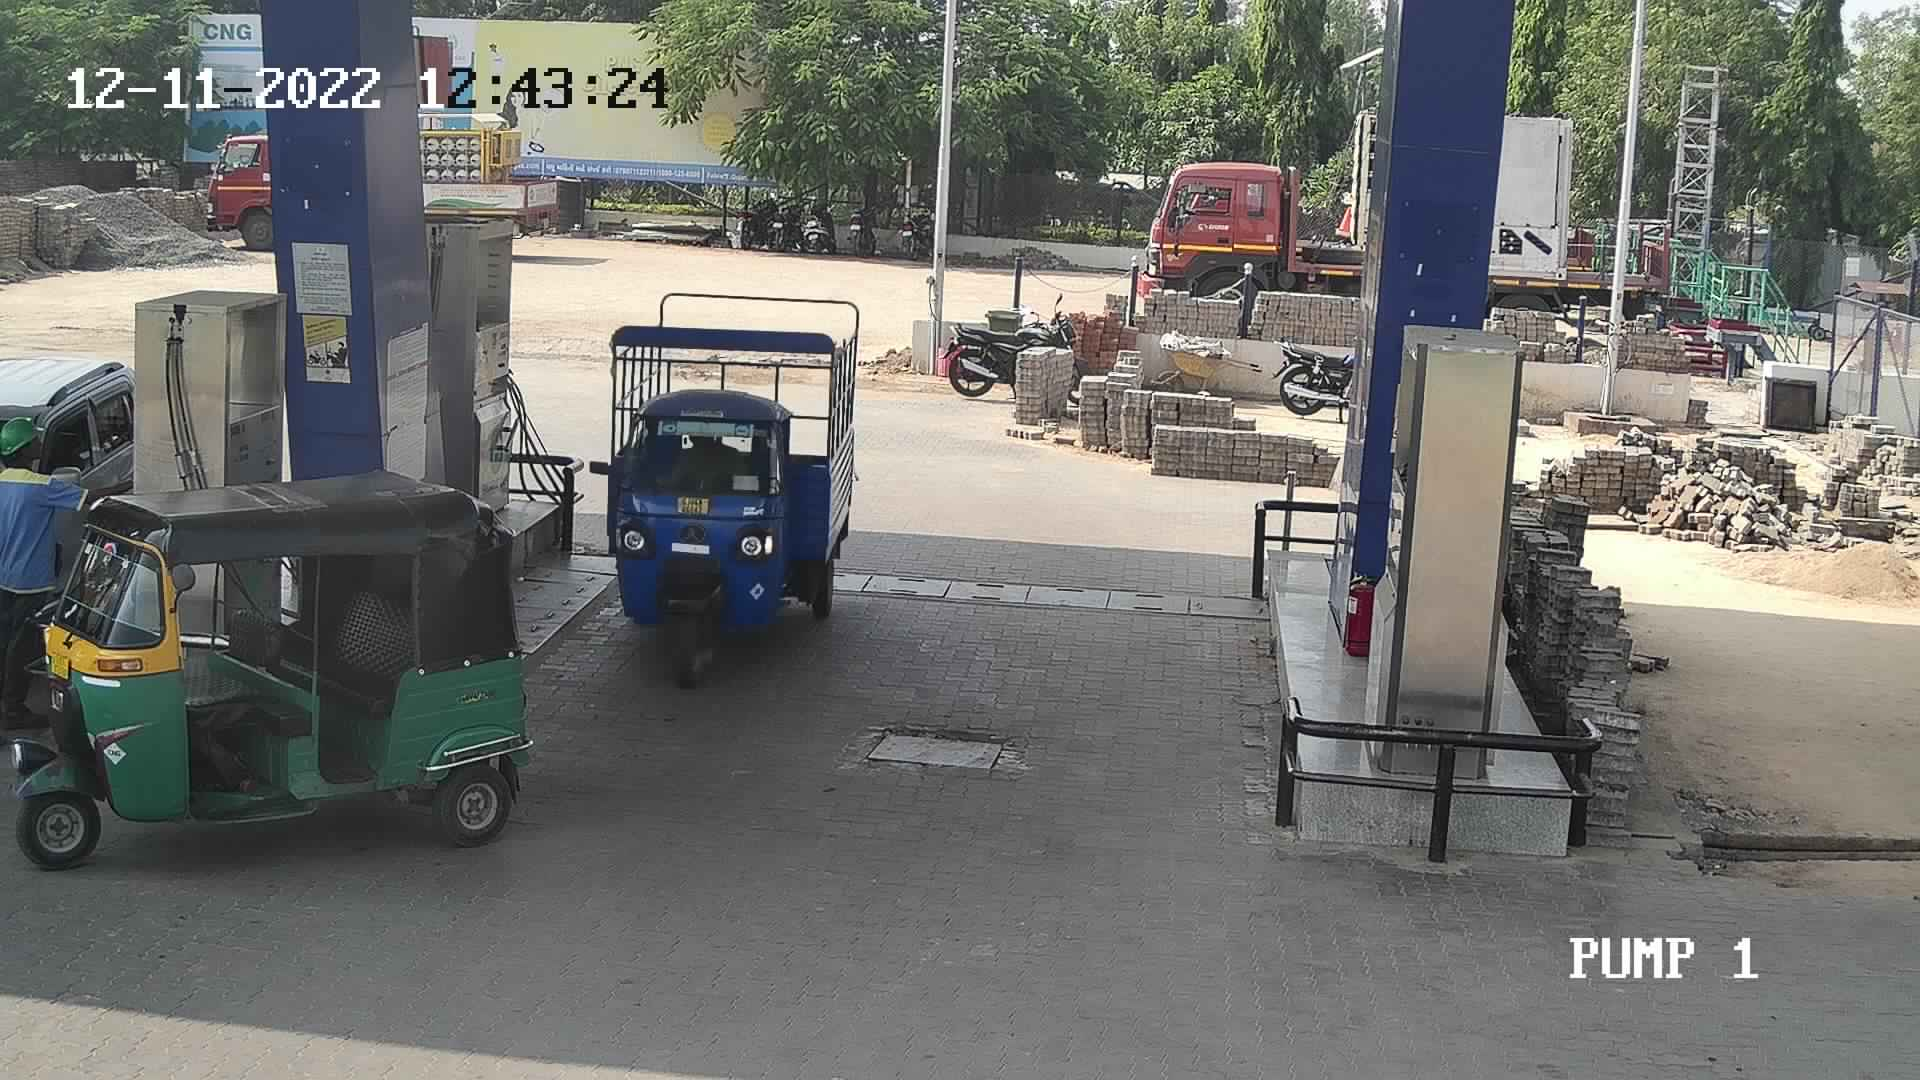Auto: (20, 443, 533, 868), (585, 284, 864, 698)
Bike: (936, 301, 1087, 406), (1265, 320, 1369, 427), (886, 175, 938, 260), (793, 185, 847, 262), (735, 179, 782, 248), (843, 186, 885, 258), (767, 185, 806, 252)
Car: (0, 330, 173, 625)
HMV: (1124, 86, 1387, 347), (409, 84, 572, 241)
Others: (0, 400, 84, 732)
